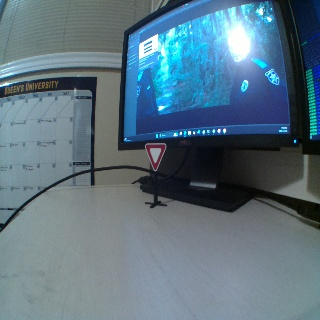sign_yield: (145, 142, 167, 171)
